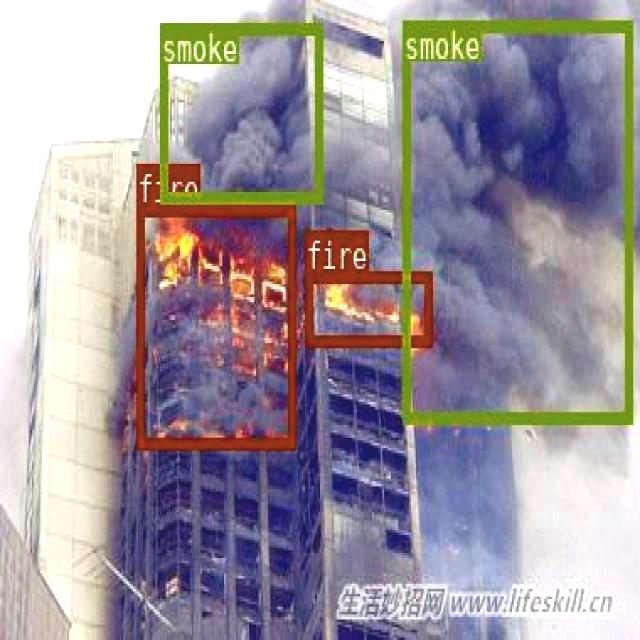fire: (136, 205, 294, 448), (304, 270, 430, 344)
smoke: (401, 18, 631, 420), (160, 21, 322, 202)
